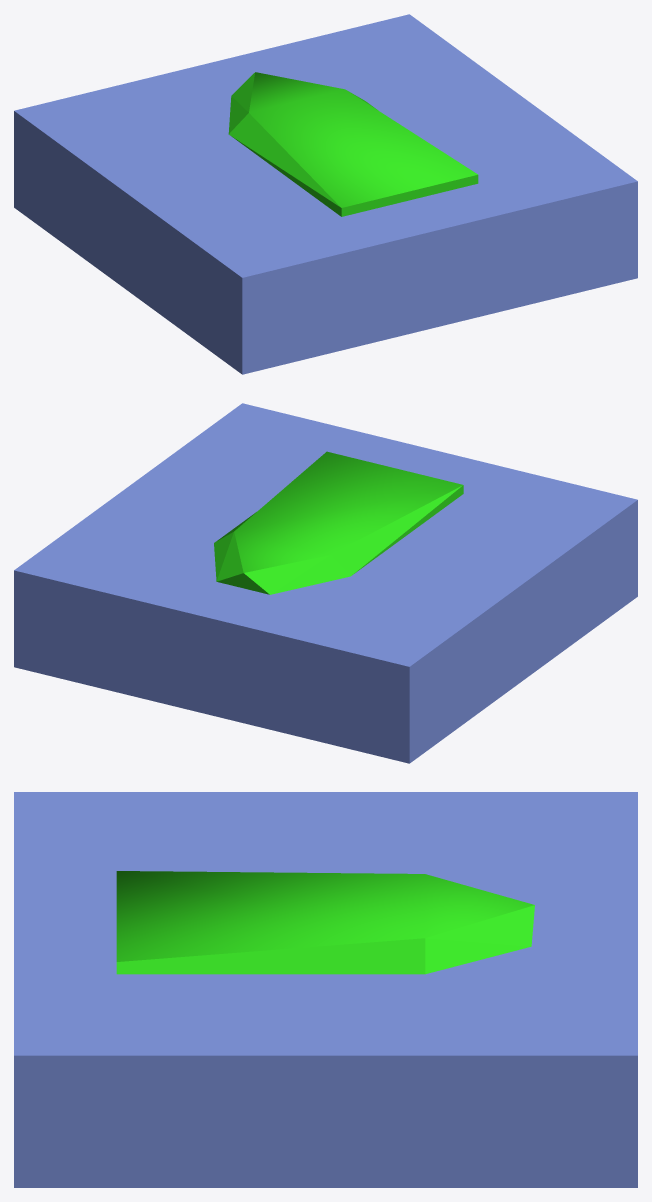
Rendered from AmmoBoost.fbx.
3 views of the same model, one above another, from view 1: azimuth 30°, elevation 25°; view 2: azimuth 150°, elevation 25°; view 3: azimuth 270°, elevation 25° (orthographic). The views are drawn at different scales.
Visible parts, largest first — view 1: Cube; view 2: Cube; view 3: Cube.
Part boxes in pixels (x1,y1,x2,y2): Cube: (14, 14, 637, 374); Cube: (14, 403, 637, 763); Cube: (14, 792, 637, 1187).
Bounding box in the file's own units: 38.53 × 10.56 × 38.53.
